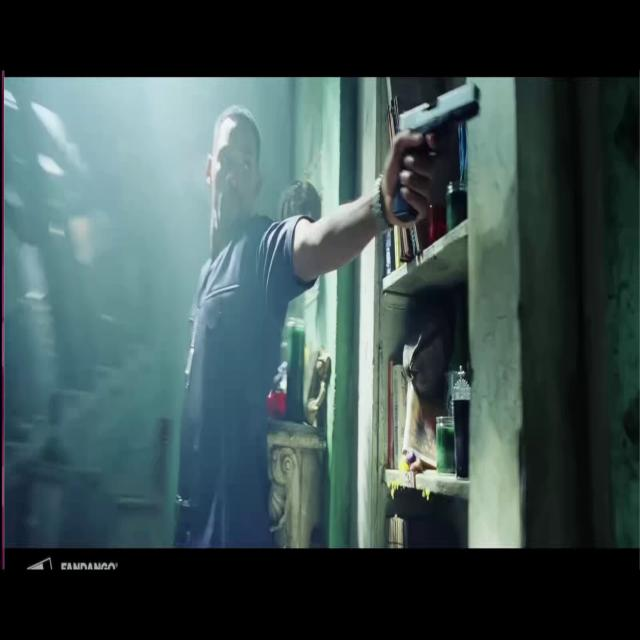weapons: (376, 85, 489, 236)
